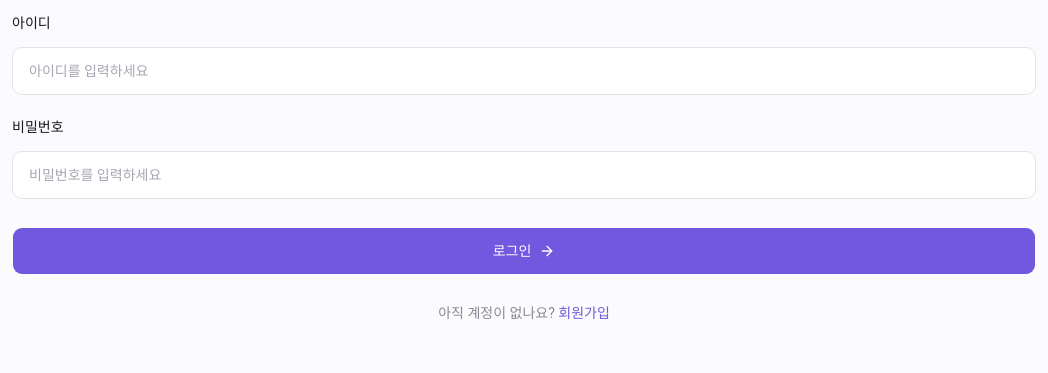
login API integration › handles HTTP/network failure 401 without logging in or retrying
Type "  driver  " into the field labelled "아이디" at x=524, y=71, box [12,47,1036,95]
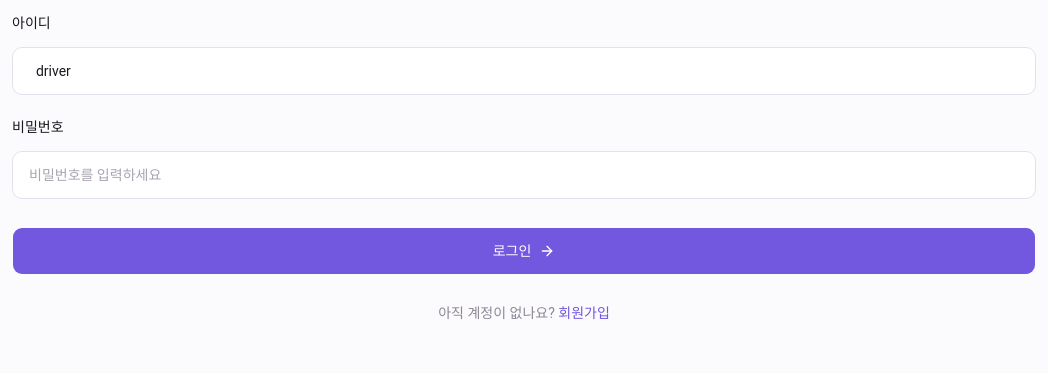
Type "password123" into the password field labelled "비밀번호" at x=524, y=175, box [12,151,1036,199]
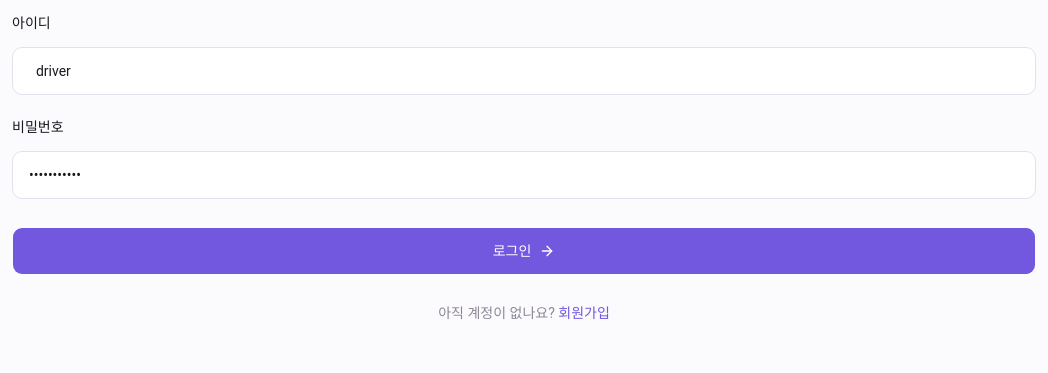
Click the button "로그인" at x=524, y=251, box [12,227,1036,275]
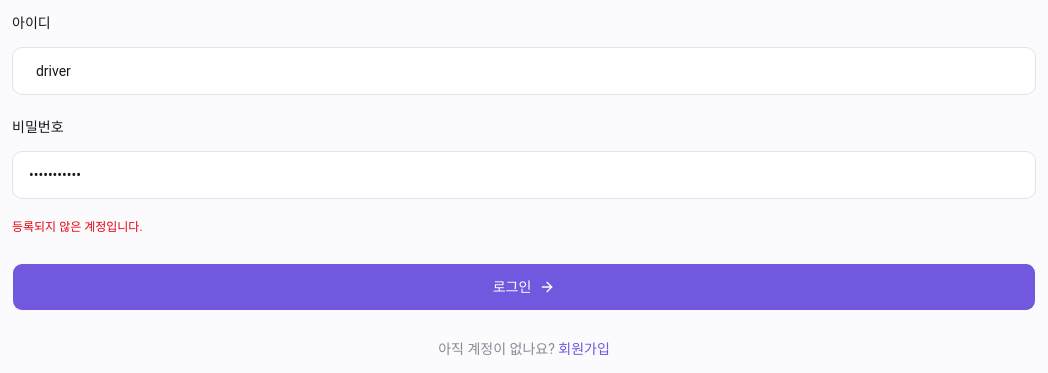
Expected: the message reads "등록되지 않은 계정입니다.", [12,220,143,234]
